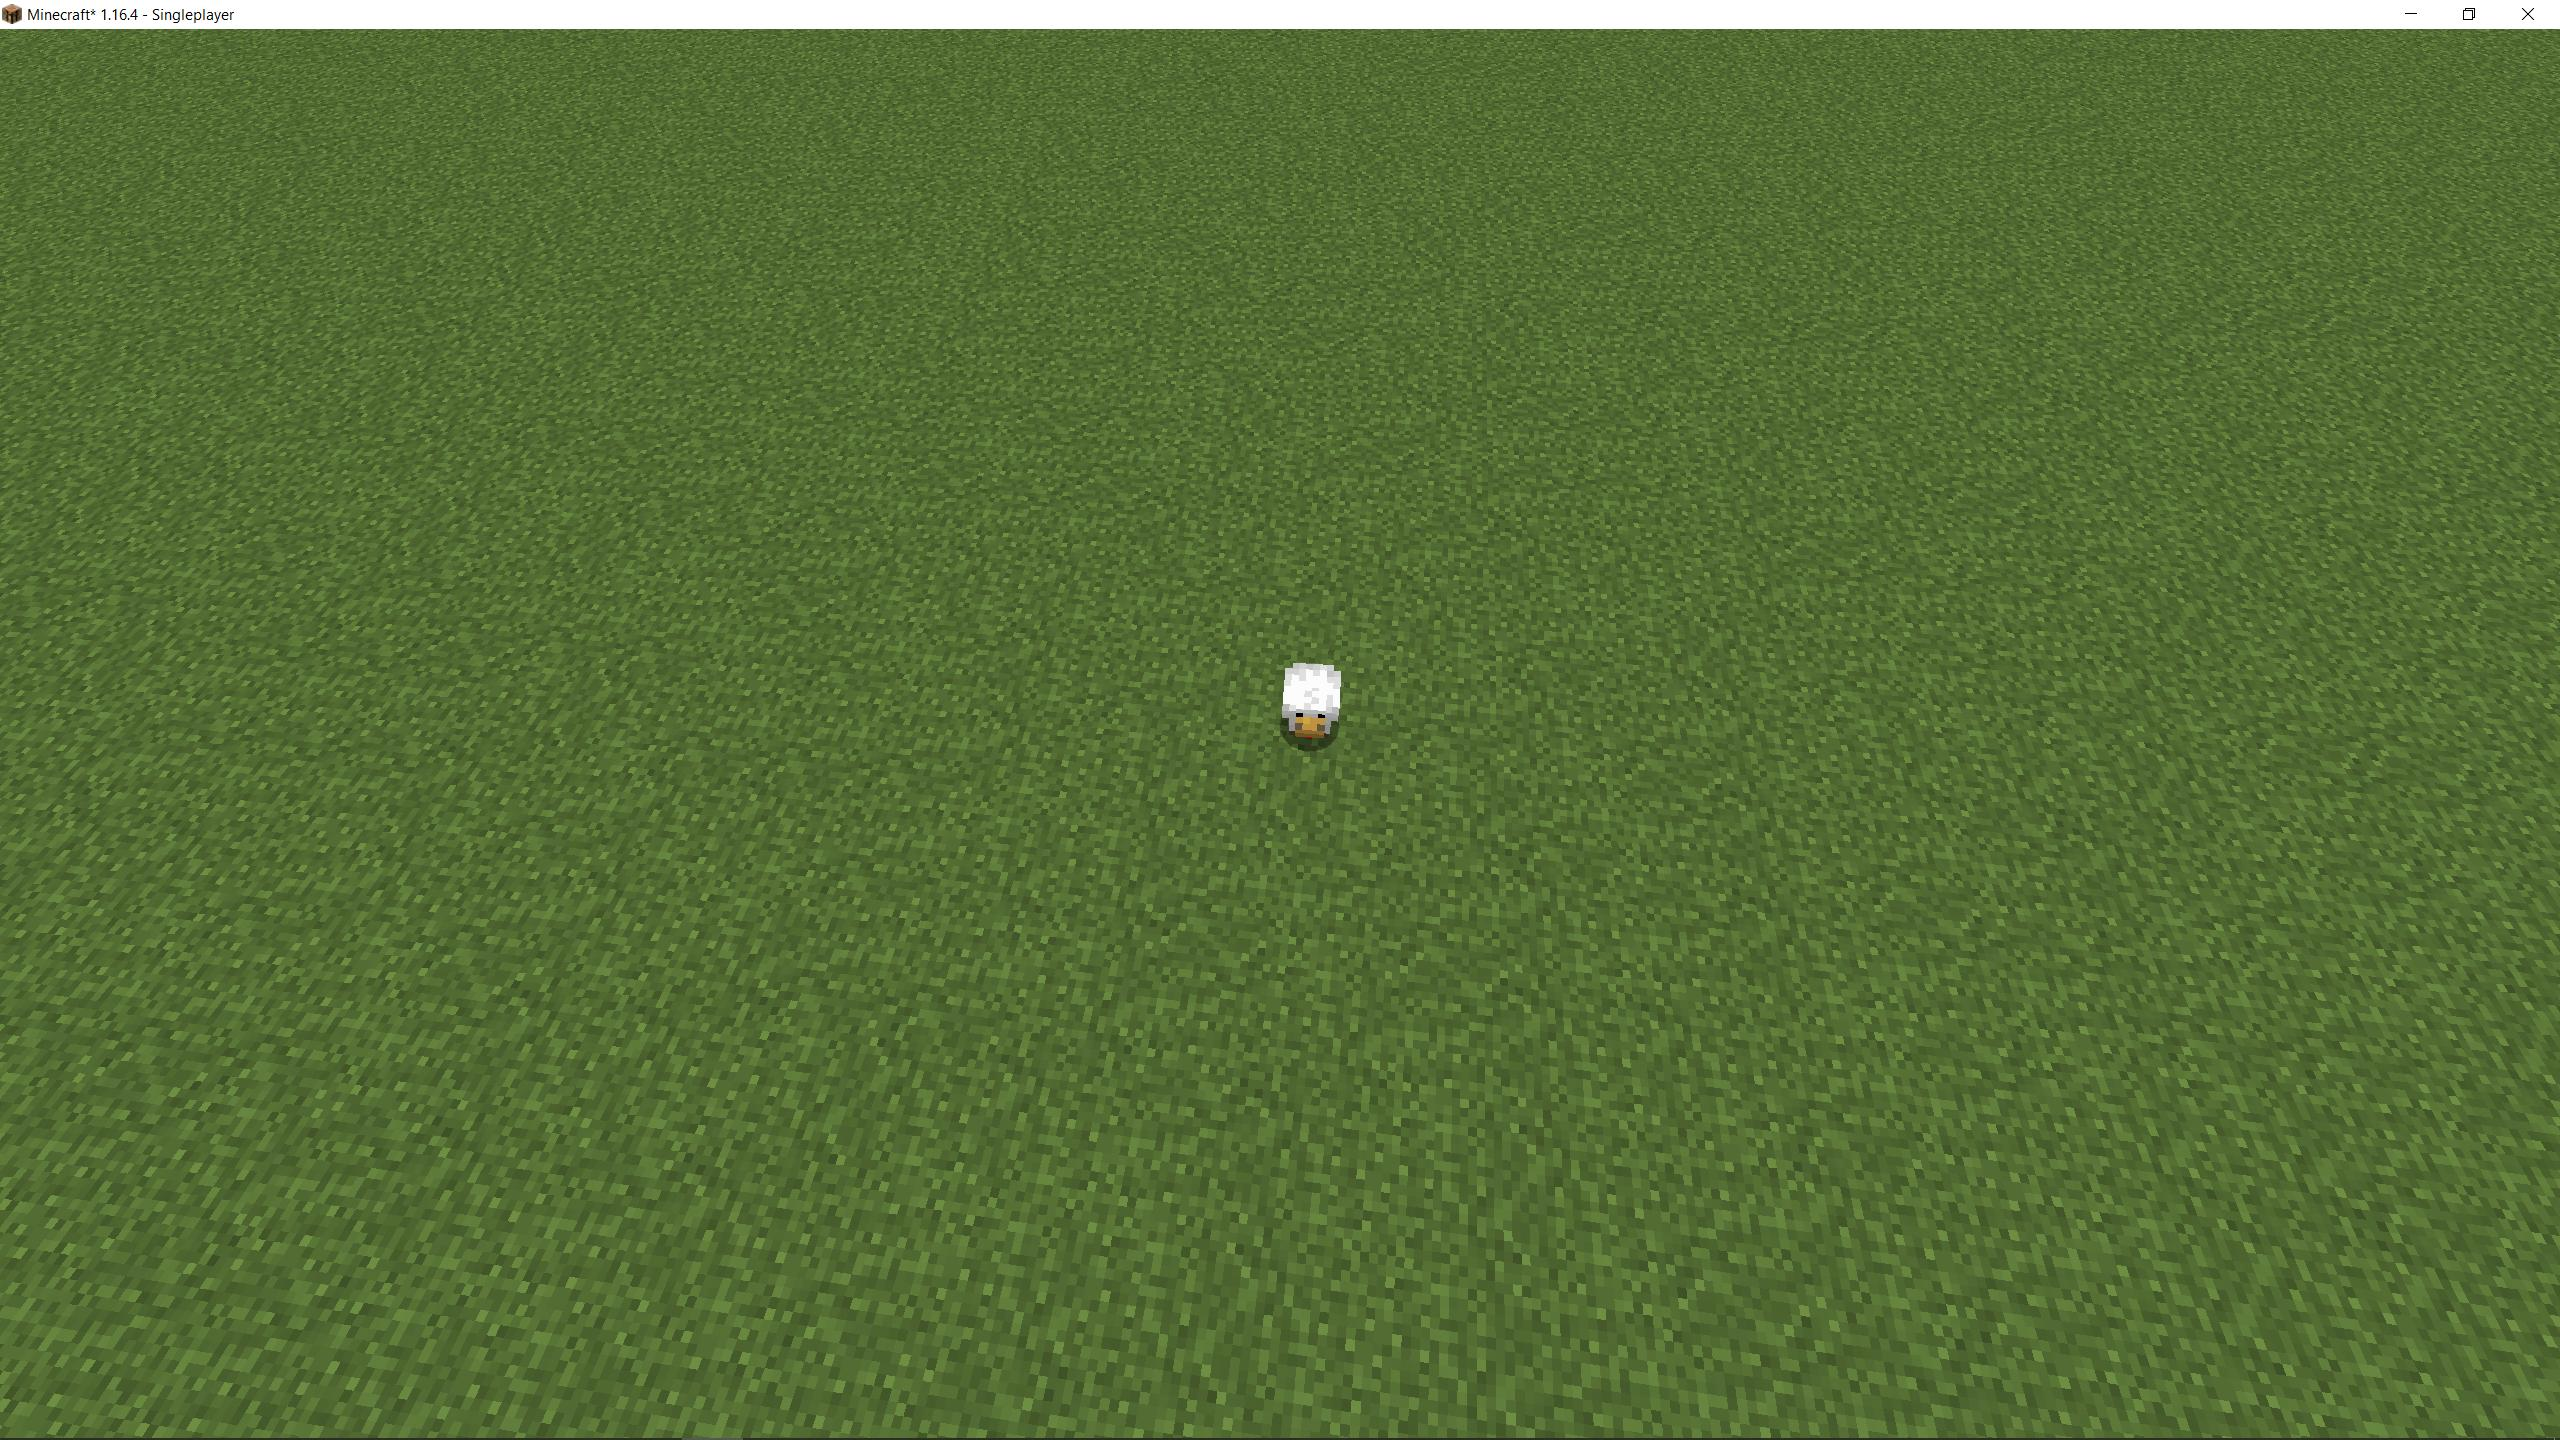chicken: (1271, 659, 1347, 753)
